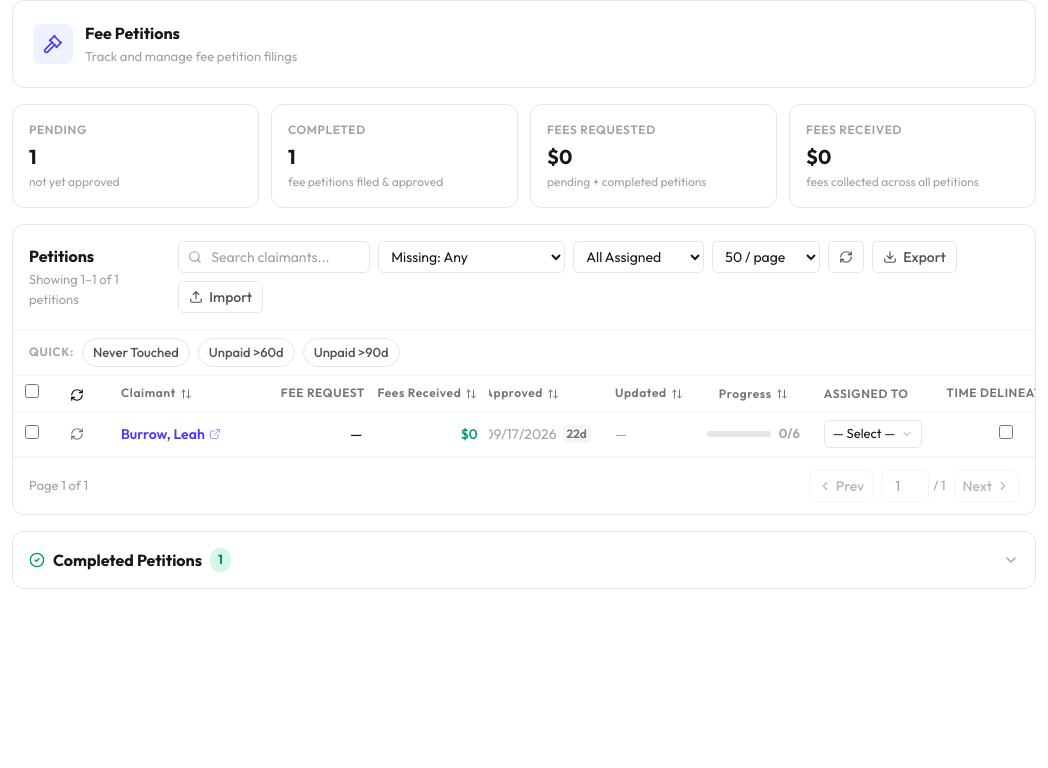
Test: Fee Petitions — remove is gated on feePetition.manage › offers Remove to a user who can manage the section
Click the checkbox named "Select Burrow, Leah": [32, 432] box [25,424,39,438]
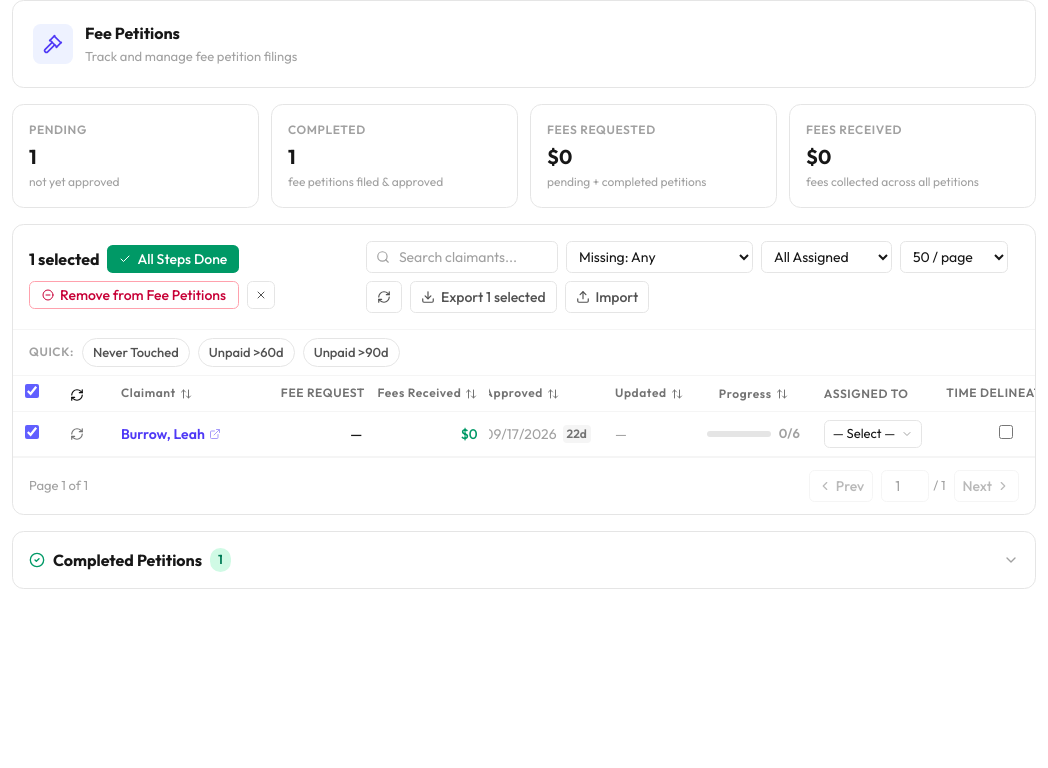
Now the button with aria-label "Remove selected cases from Fee Petitions" is shown, box [29,280,239,308]
